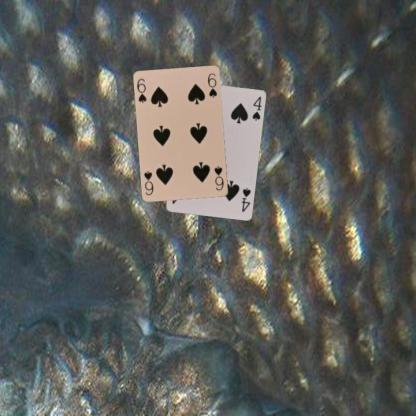4s: (239, 185, 252, 213)
6s: (211, 163, 225, 192), (135, 76, 148, 104)
